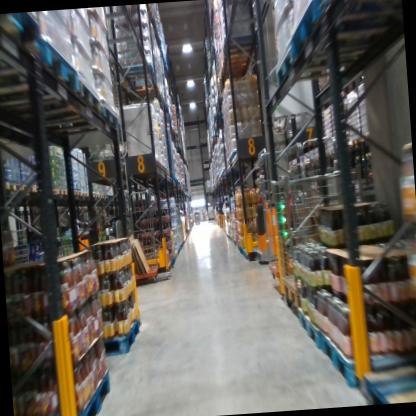pallet: (284, 0, 399, 56), (0, 97, 130, 146), (319, 319, 398, 392), (0, 38, 89, 101), (1, 75, 101, 130), (270, 33, 383, 81), (21, 370, 130, 416), (356, 355, 416, 405), (91, 312, 146, 364), (0, 13, 47, 51), (316, 0, 400, 17), (295, 308, 323, 359), (281, 276, 313, 307), (115, 77, 162, 97), (219, 42, 258, 64), (1, 178, 23, 196), (51, 186, 69, 199), (34, 181, 49, 194), (19, 182, 35, 194), (361, 149, 376, 160), (350, 153, 363, 165), (347, 137, 362, 147), (71, 188, 83, 198), (325, 149, 335, 160), (80, 189, 89, 200), (71, 204, 82, 212), (93, 190, 99, 200), (107, 193, 114, 201), (88, 191, 94, 200), (102, 193, 108, 200), (98, 195, 103, 200)
pallet_truck: (243, 144, 320, 266), (61, 177, 108, 290)
